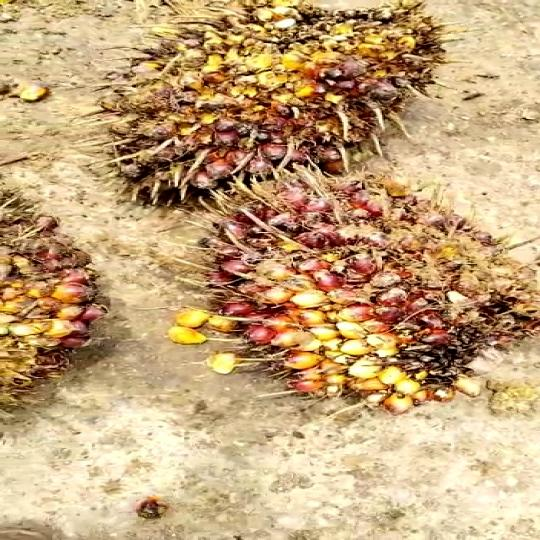masak: (186, 168, 528, 424), (108, 0, 478, 222)
